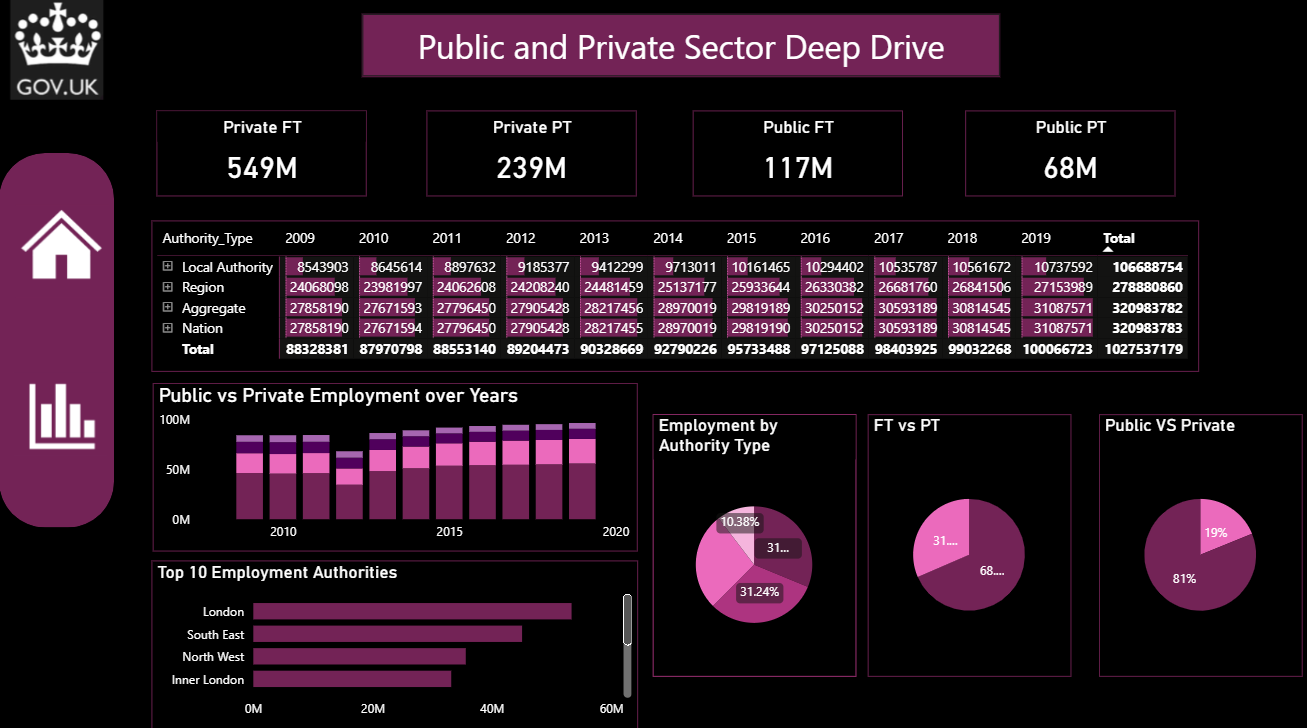

The page's visual inventory and layout, read from the dashboard file:
{"tool":"powerbi","page":{"name":"Public & Private Sector","canvas":[1280,720],"ordinal":1},"visuals":[{"type":"shape","box":[354,19.2,625.7,63.1],"z":0},{"type":"actionButton","box":[0,0,112.5,108.4],"z":1000},{"type":"shape","box":[0,156.4,112.5,366.4],"z":2000},{"type":"actionButton","title":"Hone","box":[12.3,199,100.2,107],"z":3000},{"type":"actionButton","box":[9.6,359.5,100.2,104.3],"z":4000},{"type":"card","title":"Private FT","fields":{"Values":["Sum(python_employment_data.Private_FT_employees)"]},"box":[153.7,115.3,205.8,83.7],"z":5000},{"type":"card","title":"Public FT","fields":{"Values":["Sum(python_employment_data.Public_FT_employees)"]},"box":[679.2,115.3,205.8,83.7],"z":6000},{"type":"card","title":"Public PT","fields":{"Values":["Sum(python_employment_data.Public_PT_employees)"]},"box":[945.5,115.3,205.8,83.7],"z":7000},{"type":"card","title":"Private PT","fields":{"Values":["Sum(python_employment_data.Private_PT_employees)"]},"box":[418.5,115.3,205.8,83.7],"z":8000},{"type":"pivotTable","fields":{"Rows":["python_employment_data.Authority_Type","python_employment_data.Local_Authority_County"],"Columns":["python_employment_data.Year"],"Values":["python_employment_data.Total Employment Measure"]},"box":[149.6,222.3,1025,148.2],"z":9000},{"type":"columnChart","title":"Public vs Private Employment over Years","fields":{"Category":["python_employment_data.Year.Variation.Date Hierarchy.Year"],"Y":["Sum(python_employment_data.Private_FT_employees)","Sum(python_employment_data.Private_PT_employees)","Sum(python_employment_data.Public_FT_employees)","Sum(python_employment_data.Public_PT_employees)"]},"box":[150.9,381.5,474.8,164.7],"z":9001},{"type":"clusteredBarChart","title":"Top 10 Employment Authorities","fields":{"Y":["Sum(python_employment_data.Total_Employment)"],"Category":["python_employment_data.Local_Authority_County"]},"box":[149.6,555.7,476.2,164.7],"z":9002},{"type":"pieChart","title":"Employment by Authority Type","fields":{"Category":["python_employment_data.Authority_Type"],"Y":["Sum(python_employment_data.Total_Employment)"]},"box":[639.5,411.7,199,256.6],"z":9003},{"type":"pieChart","title":"Public VS Private","fields":{"Y":["Sum(python_employment_data.Public_Tot_employment)","Sum(python_employment_data.Private_Tot_employment)"]},"box":[1075.8,411.7,199,256.6],"z":9004},{"type":"pieChart","title":"FT vs PT","fields":{"Y":["Sum(python_employment_data.Total_FT_Employees)","Sum(python_employment_data.Total_PT_Employees)"]},"box":[849.4,411.7,199,256.6],"z":9005}]}

Visuals, with their boxes in screenshot pixels (x1, y1, x2, y2), scaled from the page's 1280x720 canvas onto the 1307x728 screenshot:
shape: detection(361, 19, 1000, 83)
actionButton: detection(0, 0, 115, 110)
shape: detection(0, 158, 115, 529)
"Hone" actionButton: detection(13, 201, 115, 309)
actionButton: detection(10, 363, 112, 469)
"Private FT" card: detection(157, 117, 367, 201)
"Public FT" card: detection(694, 117, 904, 201)
"Public PT" card: detection(965, 117, 1176, 201)
"Private PT" card: detection(427, 117, 637, 201)
pivotTable - python_employment_data.Authority_Type x python_employment_data.Local_Authority_County: detection(153, 225, 1199, 375)
"Public vs Private Employment over Years" columnChart: detection(154, 386, 639, 552)
"Top 10 Employment Authorities" clusteredBarChart: detection(153, 562, 639, 727)
"Employment by Authority Type" pieChart: detection(653, 416, 856, 676)
"Public VS Private" pieChart: detection(1098, 416, 1302, 676)
"FT vs PT" pieChart: detection(867, 416, 1071, 676)
